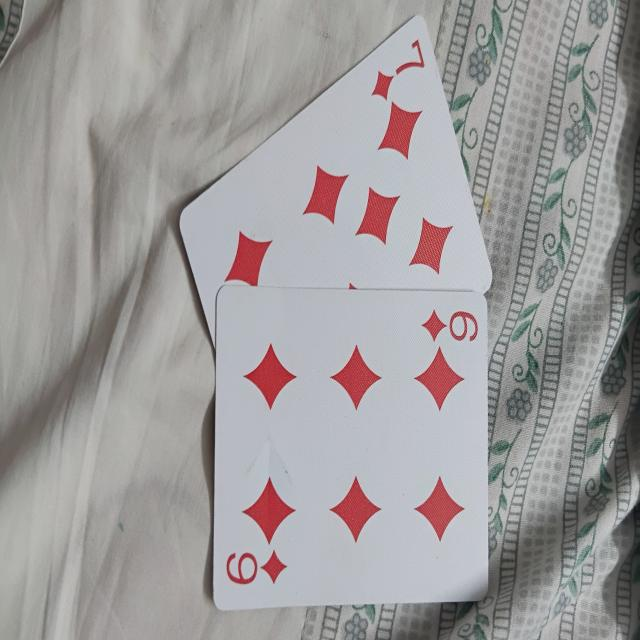6D: (214, 294, 489, 606)
7D: (176, 14, 493, 344)
